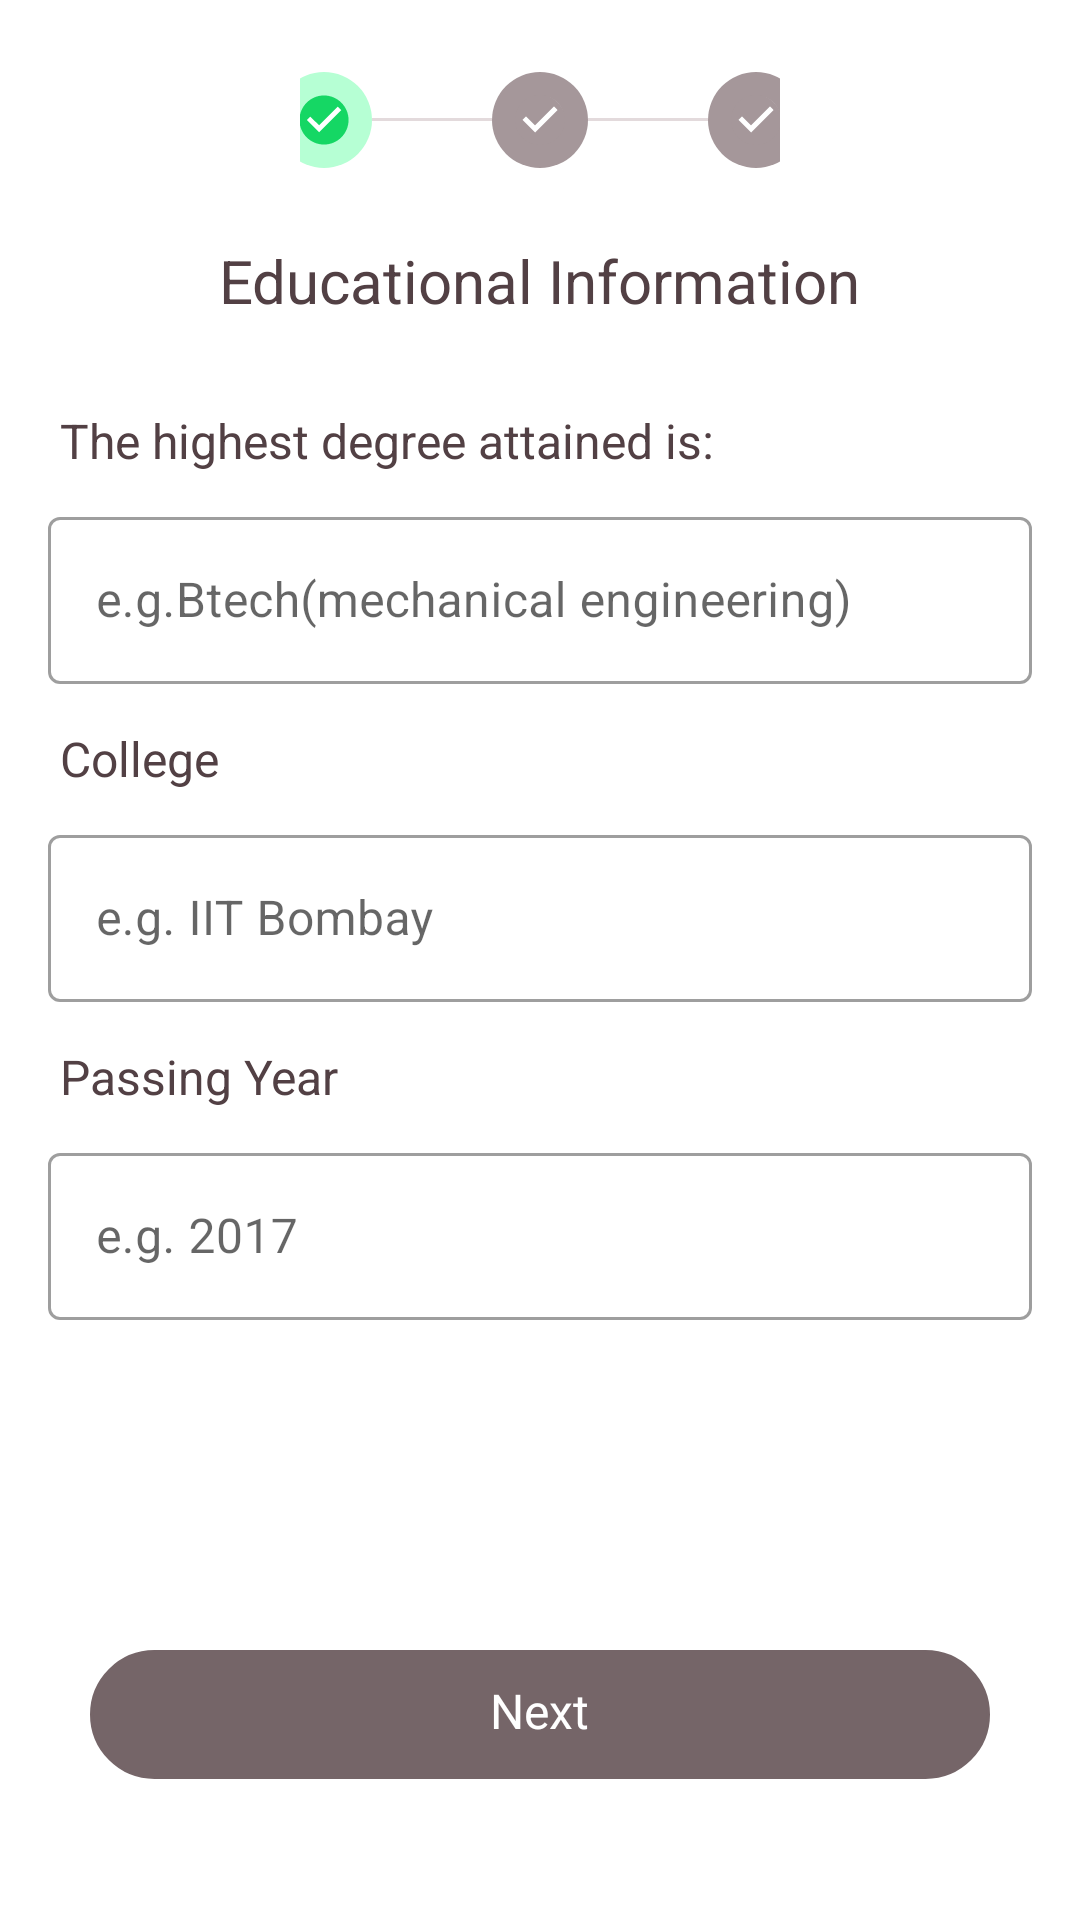

Icons on this 1080*1920 Android screen, each with its box as (x1, y1, x2, y2):
tick: (300, 95, 349, 145), (523, 107, 557, 132), (739, 107, 773, 132)
